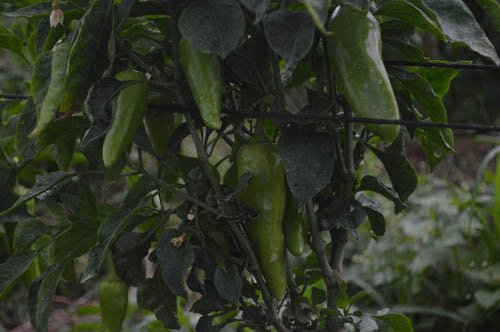ChiliPepper: (328, 2, 404, 144), (228, 142, 288, 305), (95, 70, 153, 173), (178, 34, 228, 131), (92, 272, 136, 332), (277, 193, 309, 256)
